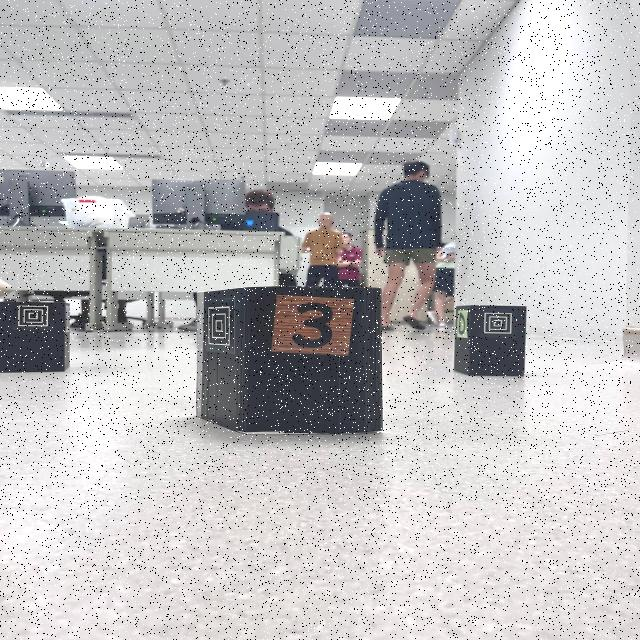D_id23: (456, 310, 468, 339)
bullseye-id10: (204, 298, 236, 354), (12, 302, 54, 331), (479, 309, 517, 338)
three_id13: (271, 295, 355, 357)
